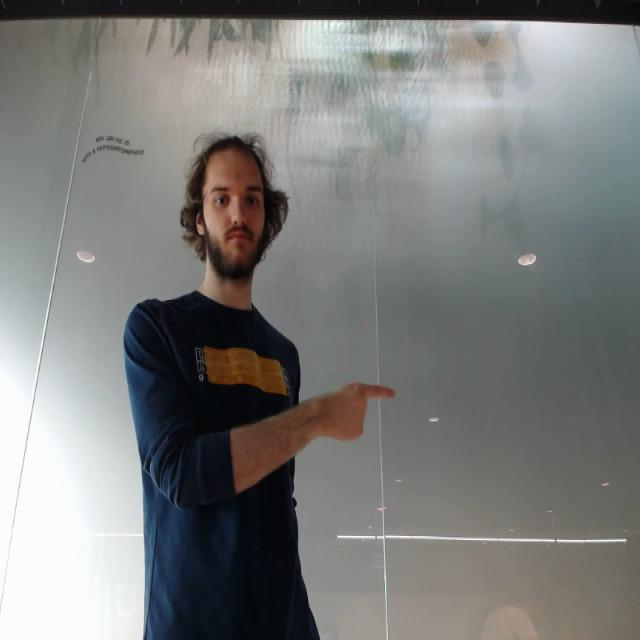right: (321, 374, 417, 458)
